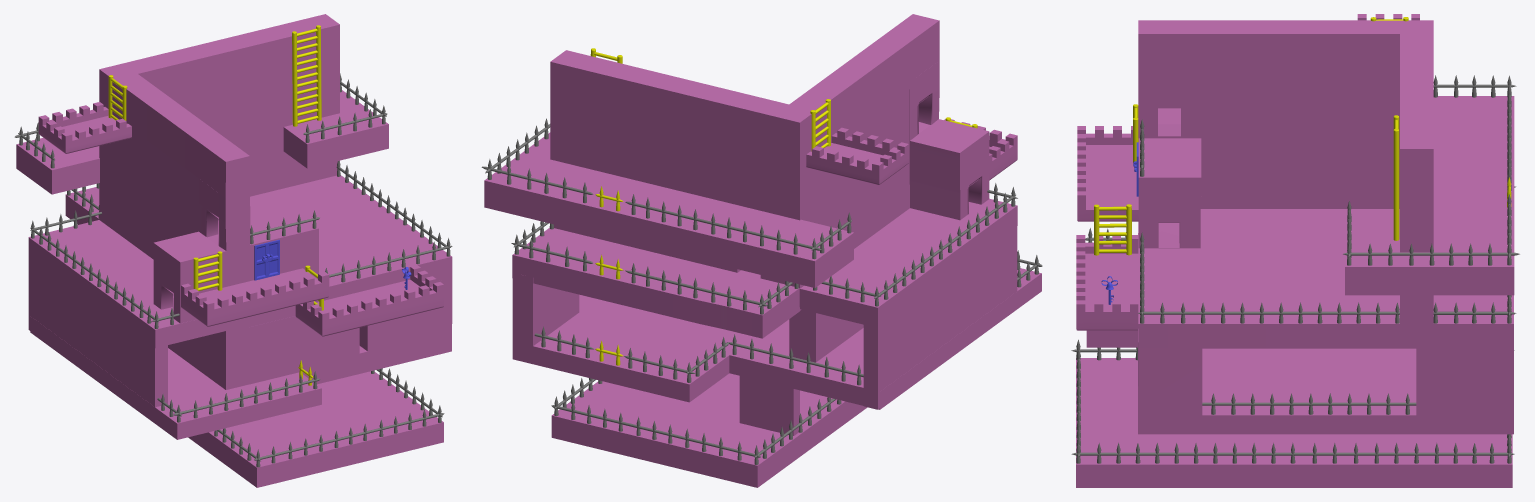
The model's file is Stage002_mainMap_0827fix.fbx.
3 renders of one model, left to right at view 1: azimuth 30°, elevation 25°; view 2: azimuth 150°, elevation 25°; view 3: azimuth 270°, elevation 25°, orthographic. The views are drawn at different scales.
Parts seen in each view (by area): view 1: mainMap, Stage002Fence, pCube9, pCube7, pCube8, ladder_new, ladder6, ladder7, Door_Key:Door; view 2: mainMap, Stage002Fence, pCube8, pCube7, ladder7; view 3: mainMap, Stage002Fence, pCube9, pCube7, ladder8, ladder_new.
Boxes of the visible parts, left/top/right/bottom form: mainMap: left=16, top=14, right=452, bottom=487; Stage002Fence: left=14, top=73, right=452, bottom=467; pCube9: left=295, top=265, right=443, bottom=336; pCube7: left=181, top=268, right=329, bottom=326; pCube8: left=38, top=102, right=131, bottom=153; ladder_new: left=292, top=25, right=321, bottom=126; ladder6: left=193, top=251, right=222, bottom=290; ladder7: left=108, top=75, right=127, bottom=120; Door_Key:Door: left=254, top=242, right=267, bottom=280; mainMap: left=484, top=14, right=1041, bottom=487; Stage002Fence: left=481, top=118, right=1042, bottom=464; pCube8: left=806, top=127, right=908, bottom=184; pCube7: left=944, top=119, right=1017, bottom=180; ladder7: left=810, top=99, right=830, bottom=151; mainMap: left=1076, top=20, right=1514, bottom=487; Stage002Fence: left=1071, top=75, right=1519, bottom=463; pCube9: left=1076, top=235, right=1138, bottom=330; pCube7: left=1077, top=126, right=1138, bottom=221; ladder8: left=1094, top=204, right=1131, bottom=255; ladder_new: left=1393, top=115, right=1399, bottom=240.
Bounding box in the file's own units: 45.89 × 41.6 × 46.36.
